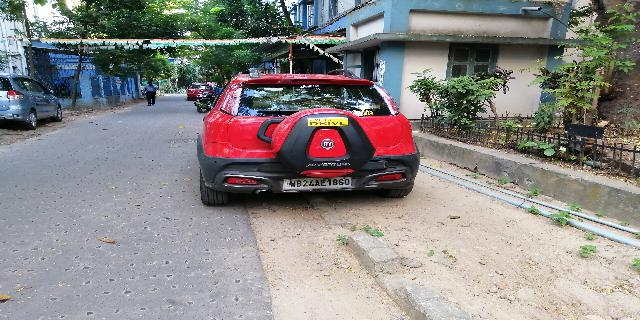Car: (190, 70, 421, 211), (1, 70, 65, 130)
